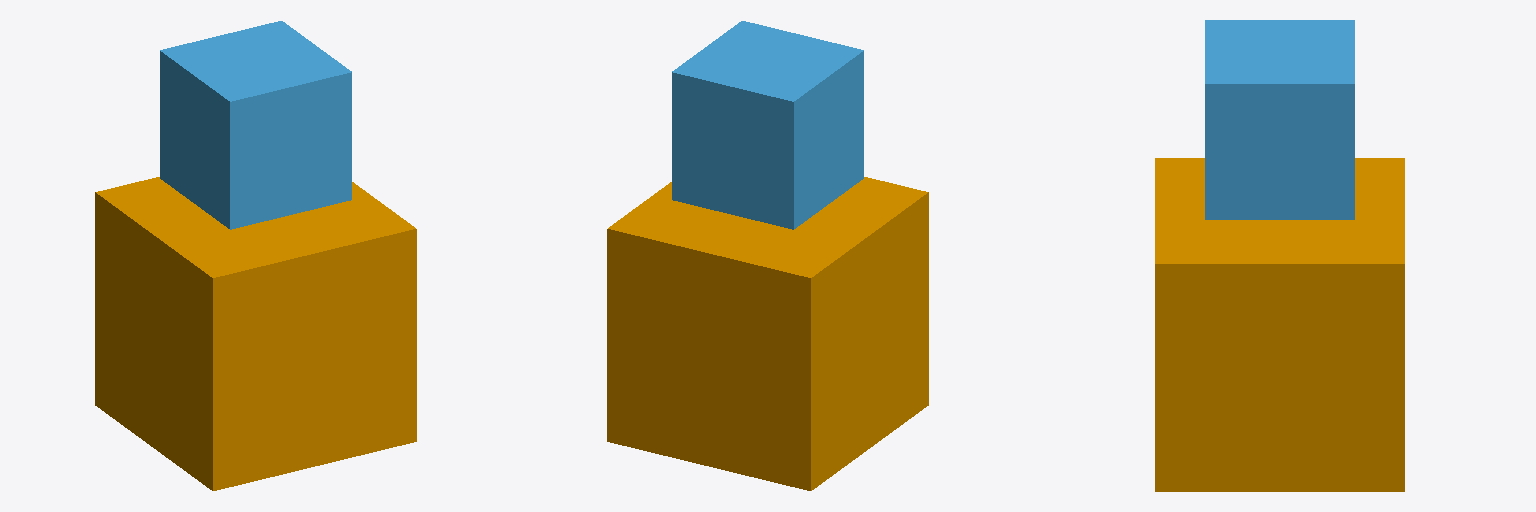
The robot description file, URDF, robot "fake_robot_v1":
<?xml version="1.0"?>
<robot name="fake_robot_v1">
  <link name="base_link">
    <inertial>
      <origin xyz="0 0 0.05" rpy="0 0 0"/>
      <mass value="2"/>
      <inertia ixx="0.1" ixy="0" ixz="0" iyy="0.2" iyz="0" izz="0.3"/>
    </inertial>
    <visual>
      <geometry>
        <mesh filename="meshes/base_link.STL"/>
      </geometry>
    </visual>
    <collision>
      <geometry>
        <mesh filename="meshes/base_link.STL"/>
      </geometry>
    </collision>
  </link>
  <link name="arm_link">
    <inertial>
      <origin xyz="0 0 0.05" rpy="0 0 0"/>
      <mass value="1"/>
      <inertia ixx="0.01" ixy="-0.002" ixz="0" iyy="0.02" iyz="0" izz="0.03"/>
    </inertial>
    <visual>
      <geometry>
        <mesh filename="meshes/arm_link.STL"/>
      </geometry>
    </visual>
    <collision>
      <geometry>
        <mesh filename="meshes/arm_link.STL"/>
      </geometry>
    </collision>
  </link>
  <joint name="dof_arm" type="revolute">
    <origin xyz="0 0 0.1" rpy="0 0 0"/>
    <parent link="base_link"/>
    <child link="arm_link"/>
    <axis xyz="0 0 1"/>
    <limit lower="-1" upper="1" effort="10" velocity="2"/>
    <dynamics damping="0.5" friction="0.1"/>
  </joint>
</robot>

--- Facts derived from the render (not from the file) ---
The picture shows the robot from 3 angles, left to right: view 1: azimuth 30°, elevation 25°; view 2: azimuth 150°, elevation 25°; view 3: azimuth 270°, elevation 25°; orthographic projection.
Robot: fake_robot_v1 — 2 links, 1 joints (1 revolute); root link base_link; default pose: every joint at zero.
Visible links, largest first — view 1: base_link, arm_link; view 2: base_link, arm_link; view 3: base_link, arm_link.
Boxes of the visible links, <box> form: base_link: <box>95,177,416,490</box>; arm_link: <box>160,21,351,229</box>; base_link: <box>607,177,928,490</box>; arm_link: <box>672,21,863,229</box>; base_link: <box>1155,158,1404,491</box>; arm_link: <box>1205,20,1354,219</box>.
Bounding box of the posed robot: 0.1 × 0.1 × 0.17 m (x, y, z).
2 mesh visuals loaded from 2 distinct referenced files (2 binary STL).
